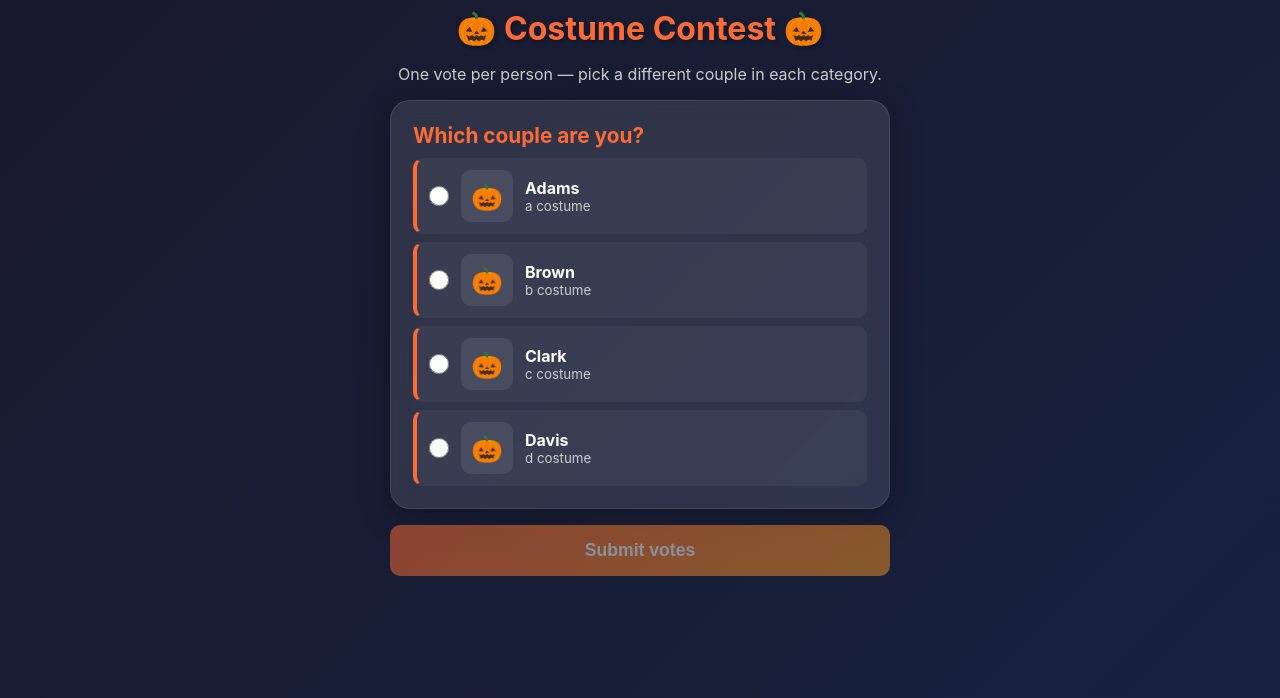
Test case: Vote form › keeps submit disabled until all three picks are made
The image size is (1280, 698).
Click the radio button labelled "🎃 Brown b costume".
click(439, 280)  # box 429,270 -> 449,290
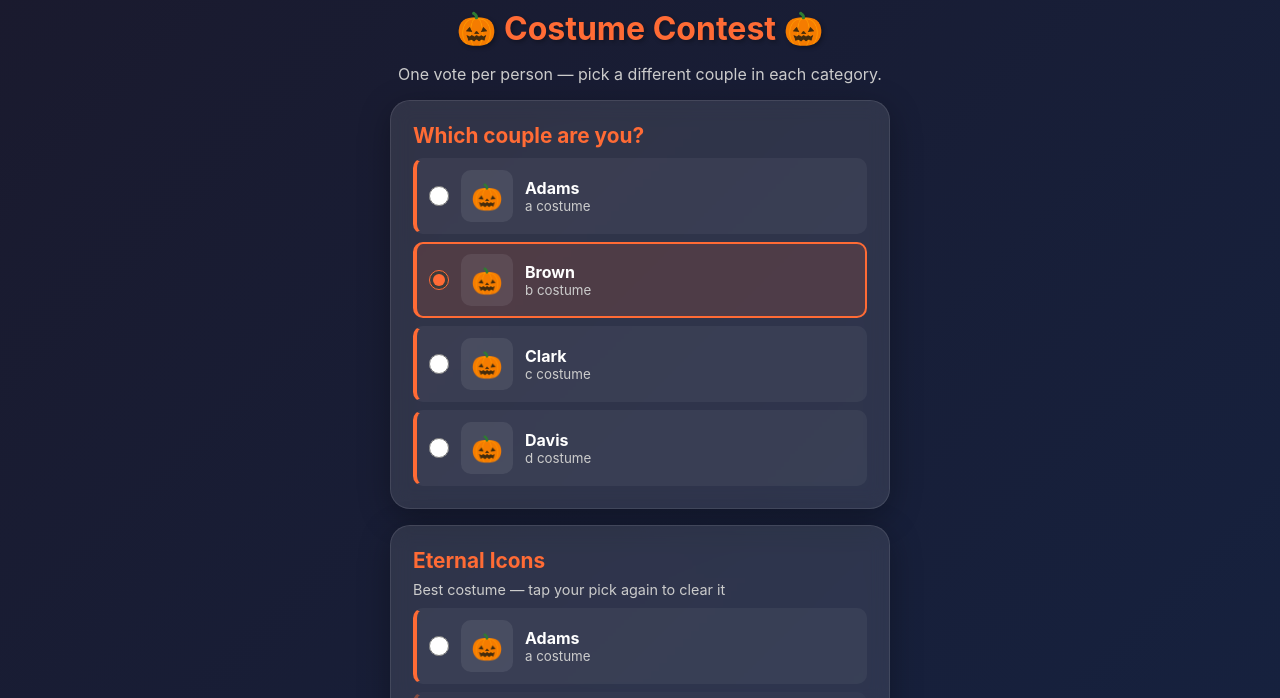
Click the radio button labelled "🎃 Adams a costume" below "Best costume".
click(439, 646)  # box 429,636 -> 449,656
(page scrolled)
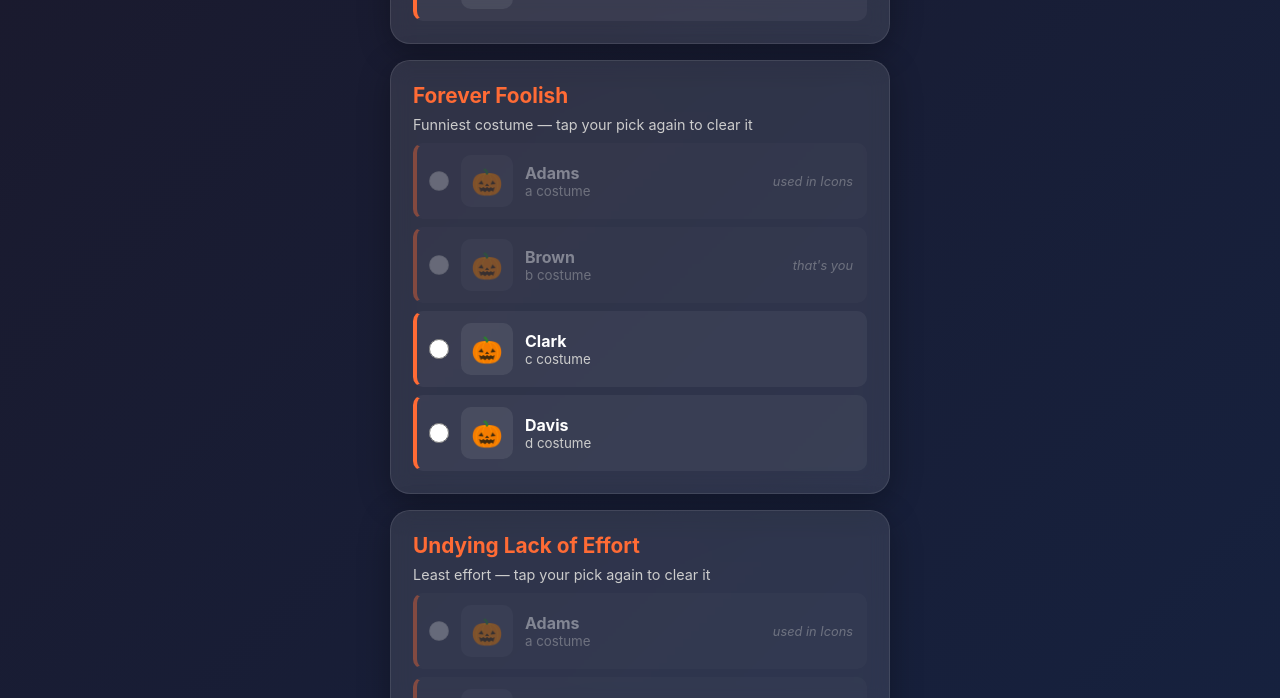
Click the radio button labelled "🎃 Clark c costume".
click(439, 349)  # box 429,339 -> 449,359
(page scrolled)
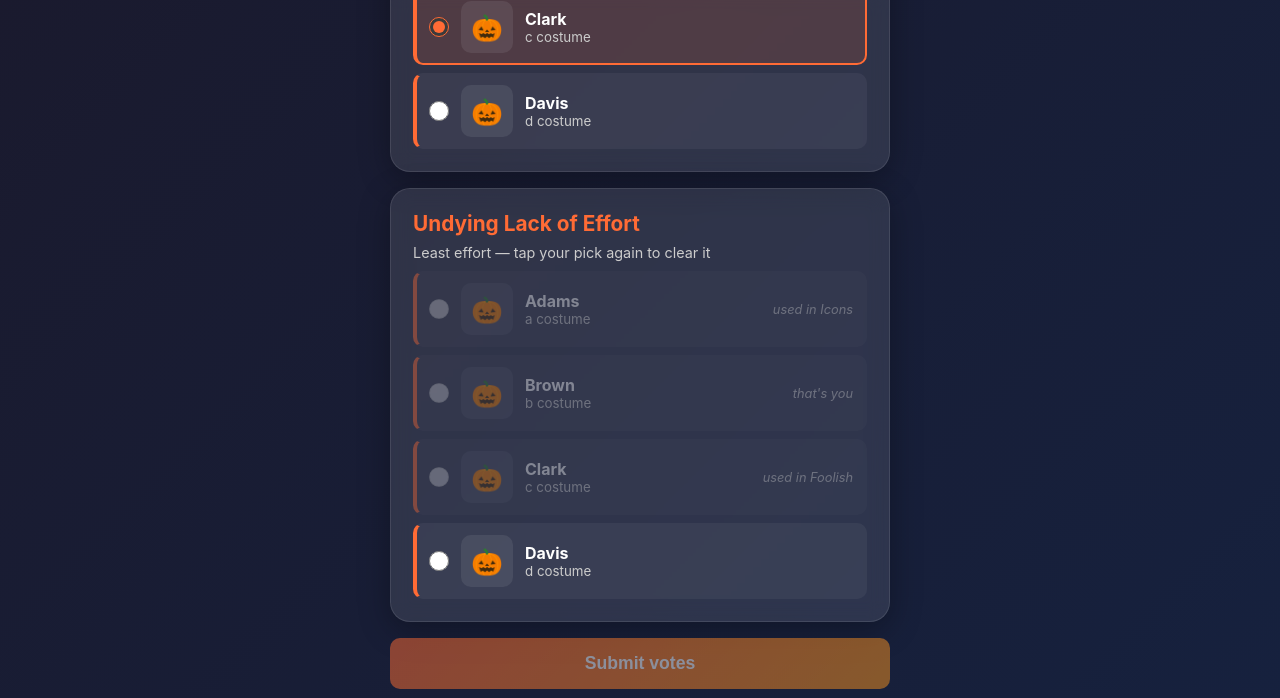
Expected: the button "Submit votes" is disabled, 390,638 -> 890,689
Click the radio button labelled "🎃 Davis d costume" below "Least effort".
click(439, 561)  # box 429,551 -> 449,571
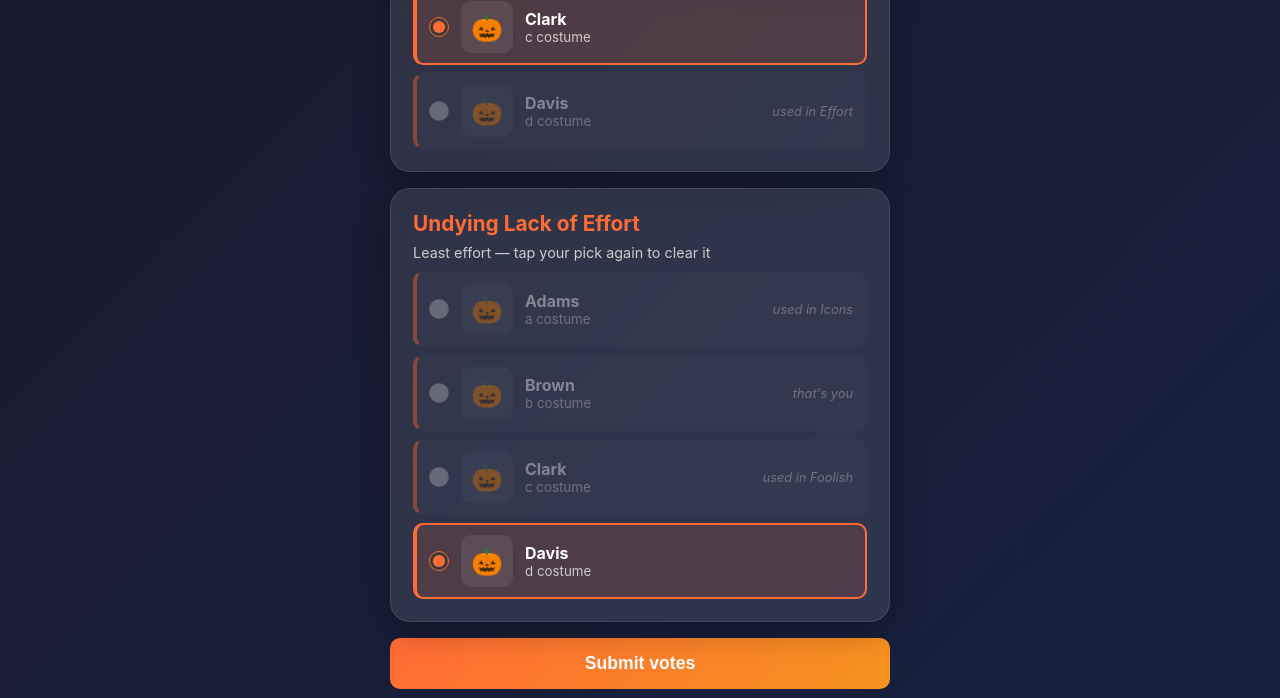
Expected: the button "Submit votes" is enabled, 390,638 -> 890,689
